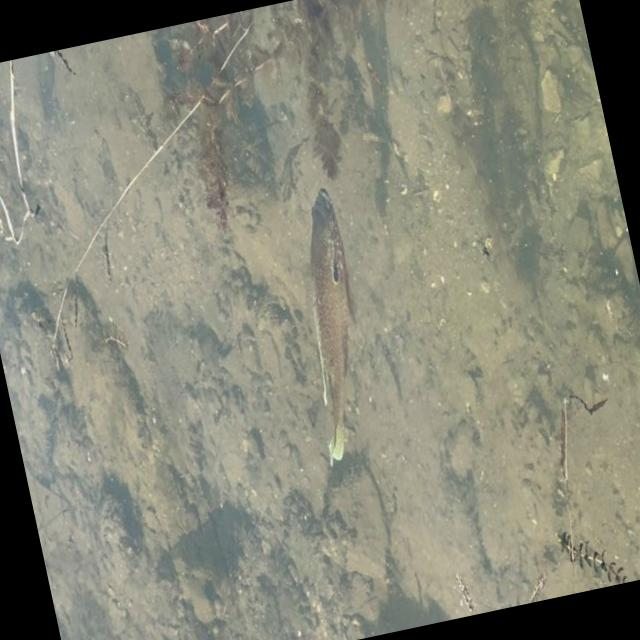Gunes Levregi: (268, 178, 394, 482)
